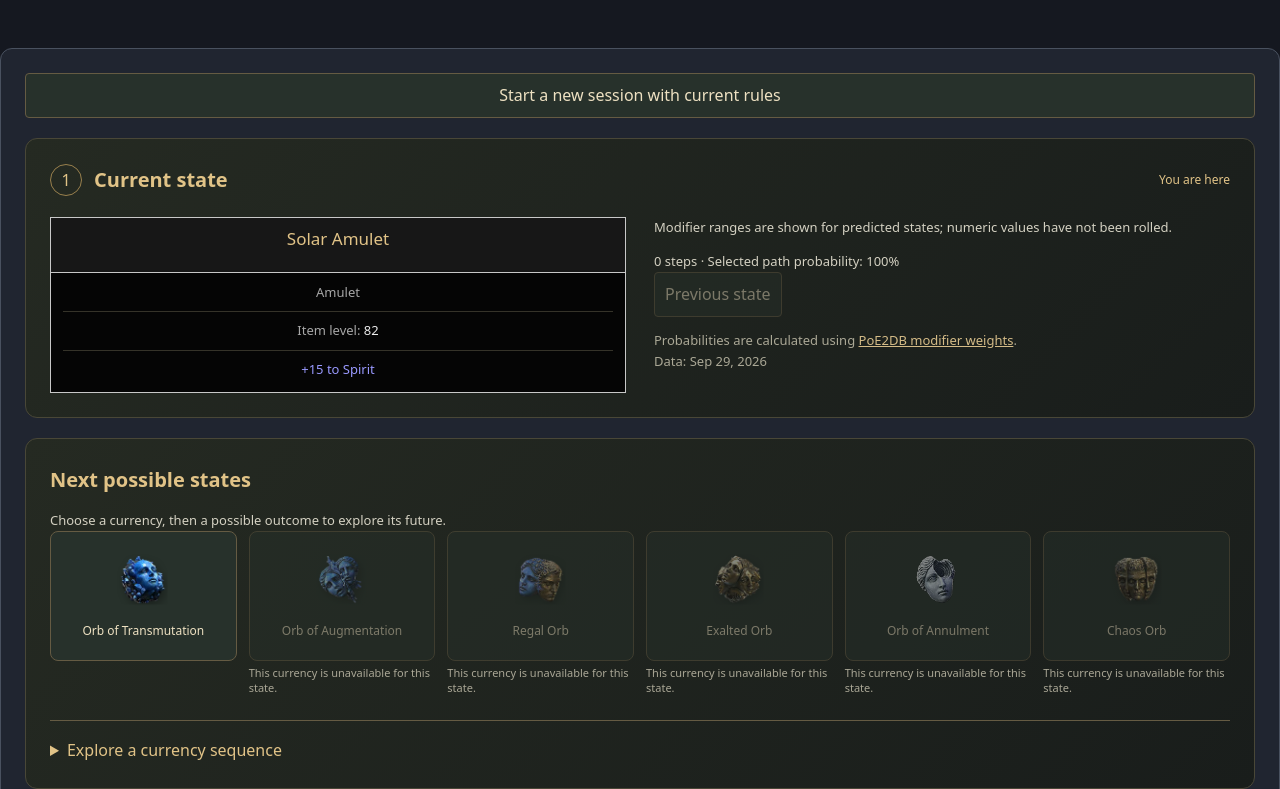
does not expose an Explorer response arriving after the session rules change
This screenshot has width=1280, height=789.
Click the button with aria-label "Preview Orb of Transmutation" at [143, 596], box x1=50 y1=531 x2=237 y2=661
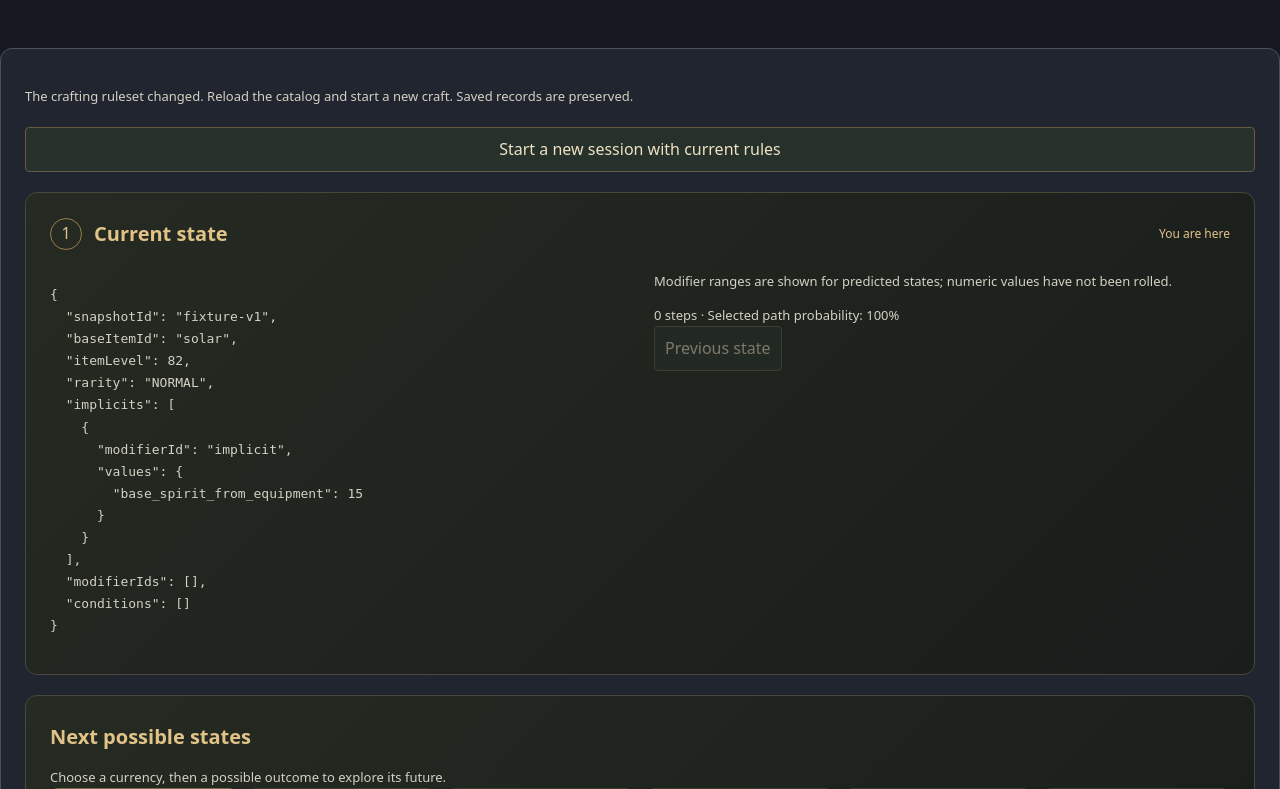
Now the message shows "ruleset changed", box x1=25 y1=87 x2=633 y2=105
